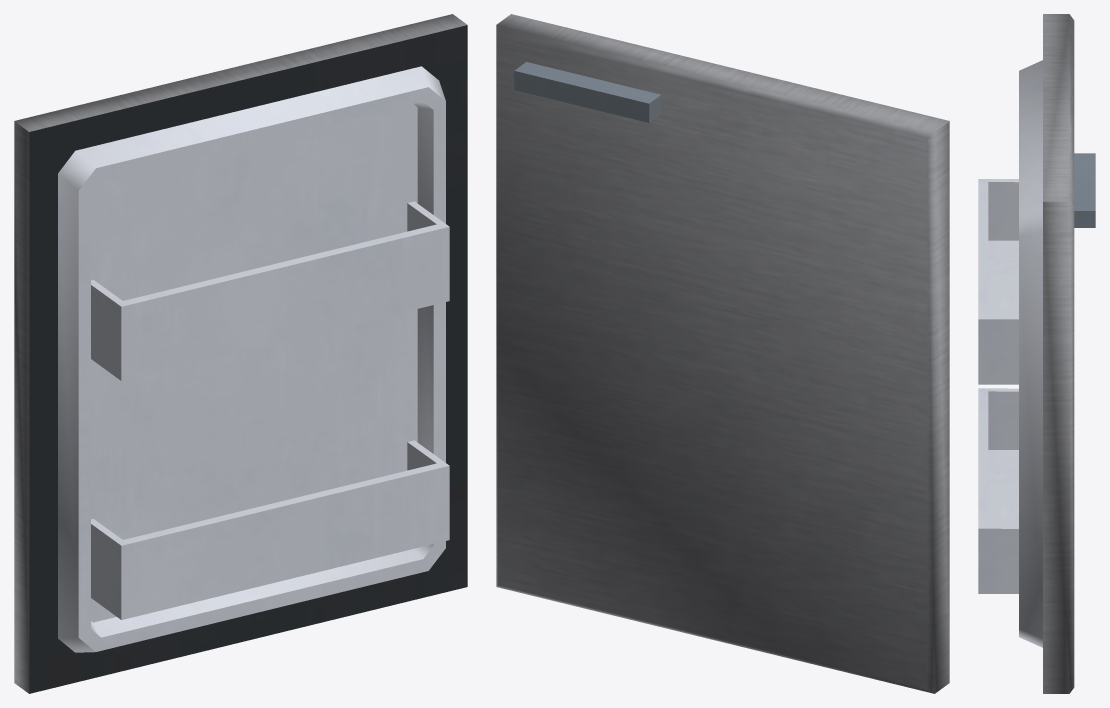
Rendered from Refrigerator_door_08.glb.
3 views of the same model, side by side, from view 1: azimuth 30°, elevation 25°; view 2: azimuth 150°, elevation 25°; view 3: azimuth 270°, elevation 25° (orthographic). The views are drawn at different scales.
Parts seen in each view (by area): view 1: Refrigerator_door_08; view 2: Refrigerator_door_08; view 3: Refrigerator_door_08.
Part boxes in pixels (x1,y1,x2,y2): Refrigerator_door_08: [14, 14, 467, 693]; Refrigerator_door_08: [496, 14, 949, 693]; Refrigerator_door_08: [978, 14, 1095, 693].
Bounding box in the file's own units: 0.7111 × 0.8706 × 0.1877.
Materials: 4 (4 with a texture image).
